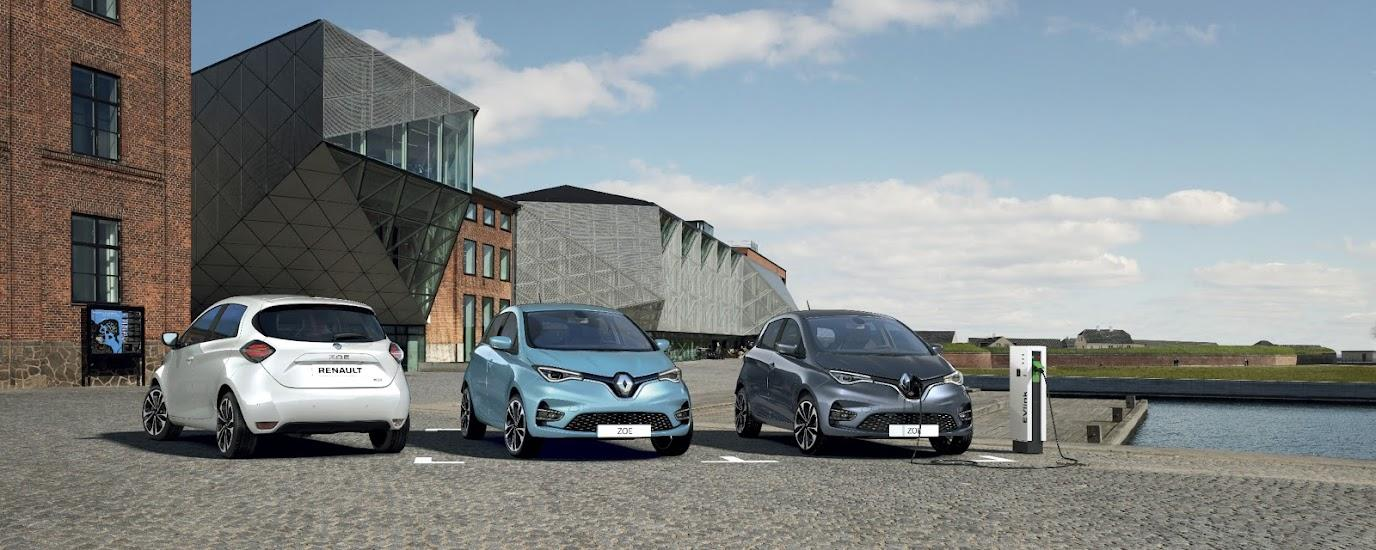Renault: (611, 368, 636, 397), (895, 370, 915, 399), (327, 340, 346, 352)
